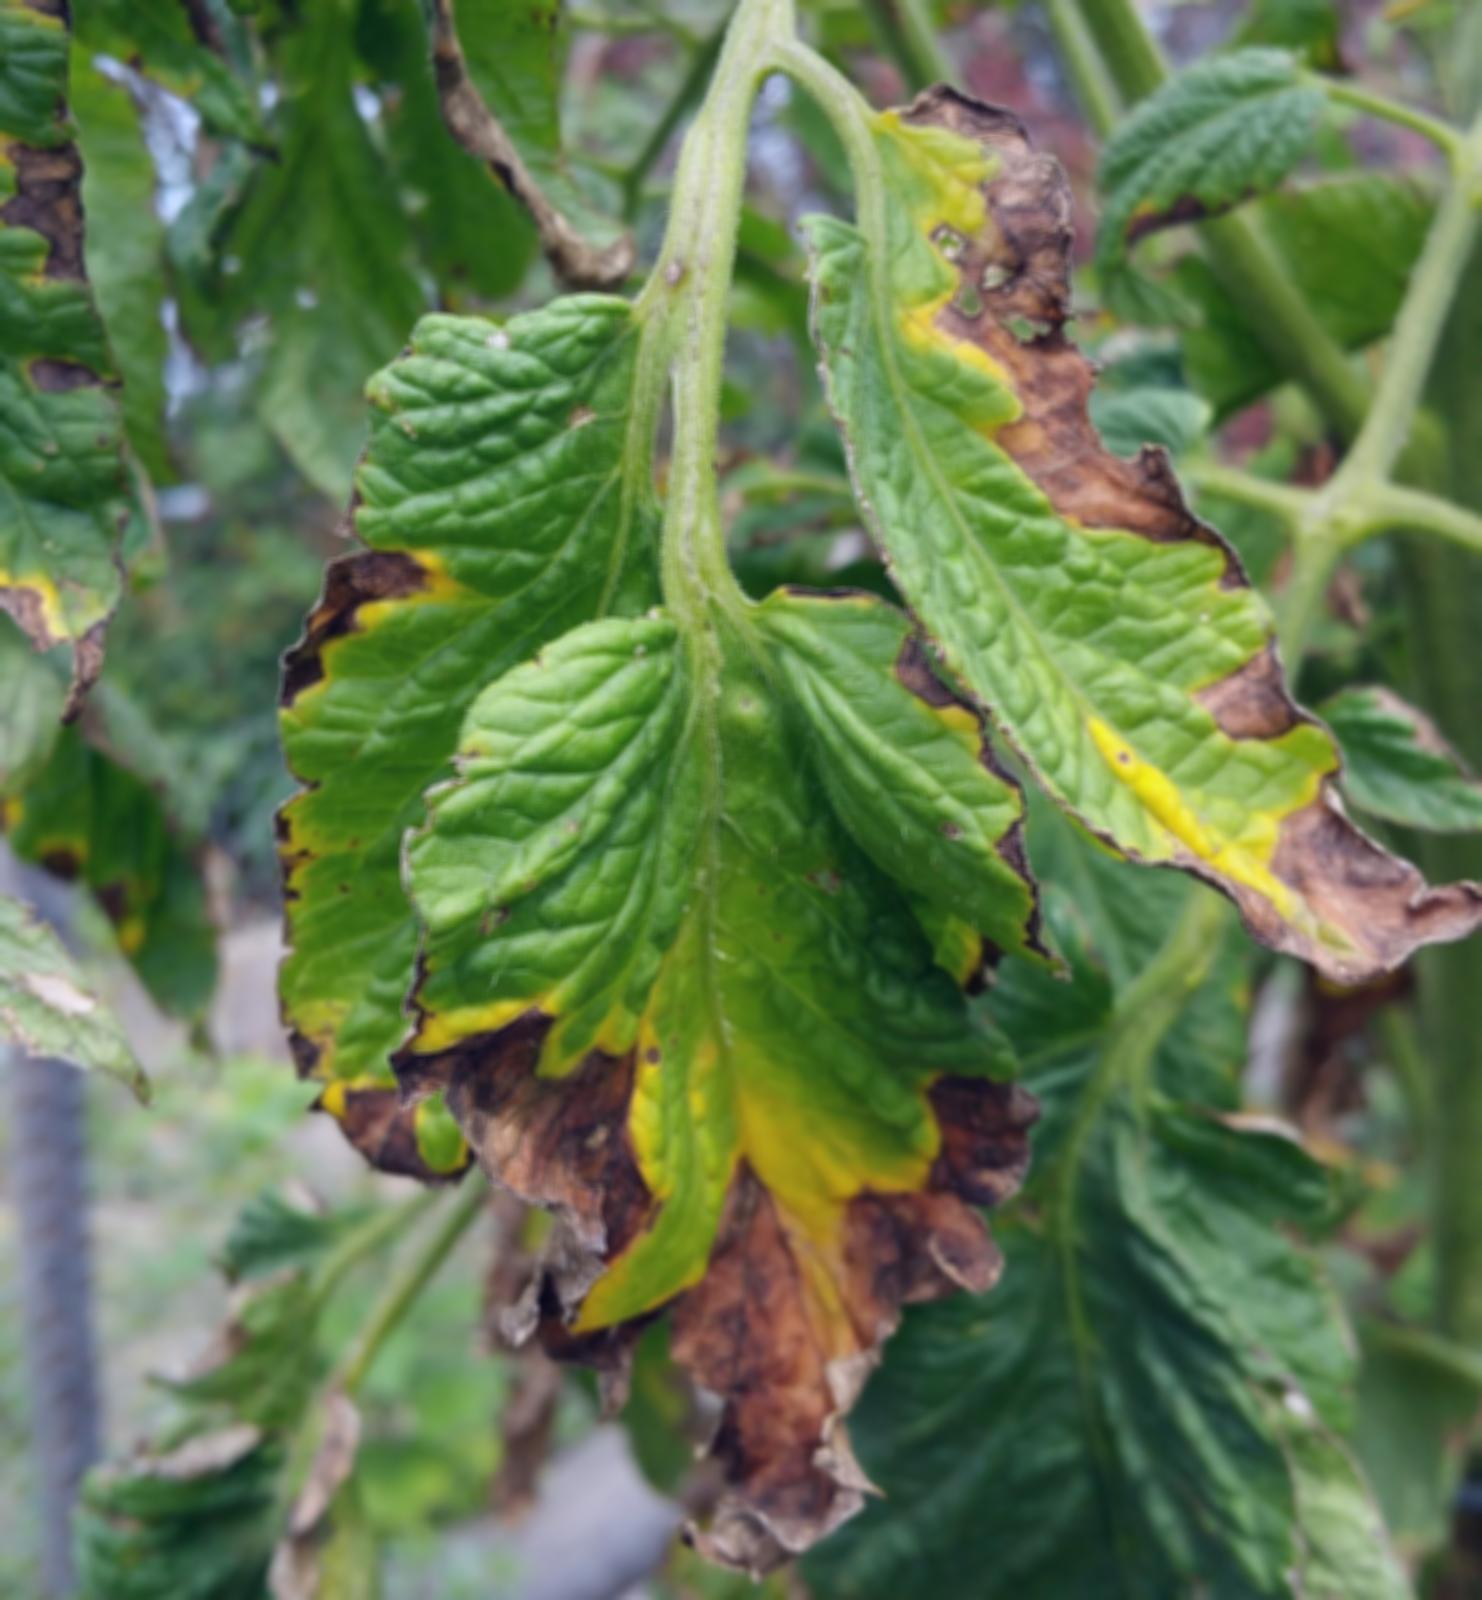Tomato leaf bacterial spot: (390, 544, 1030, 1533), (803, 49, 1444, 1003), (229, 270, 714, 1204)
